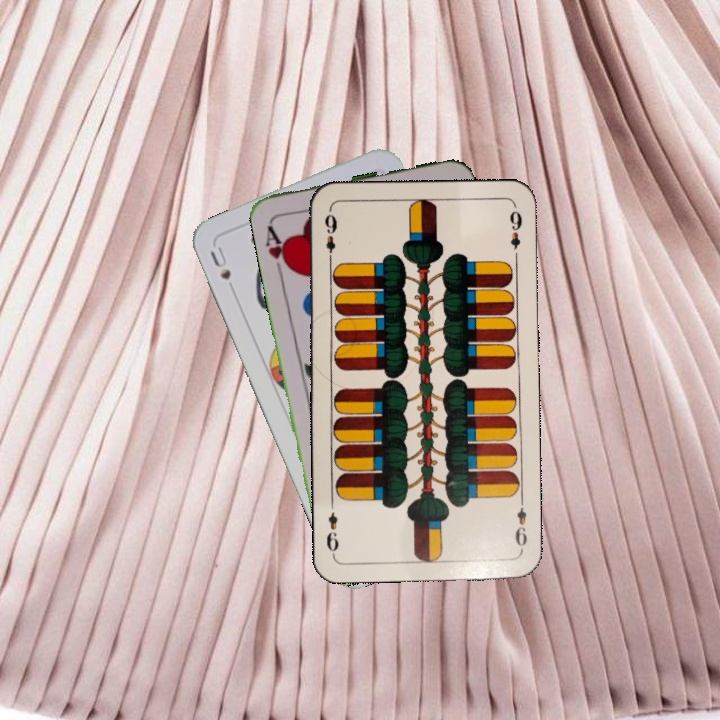E9: (511, 494, 530, 553), (320, 210, 339, 266)
HA: (261, 218, 295, 276)
SU: (206, 242, 234, 283)
